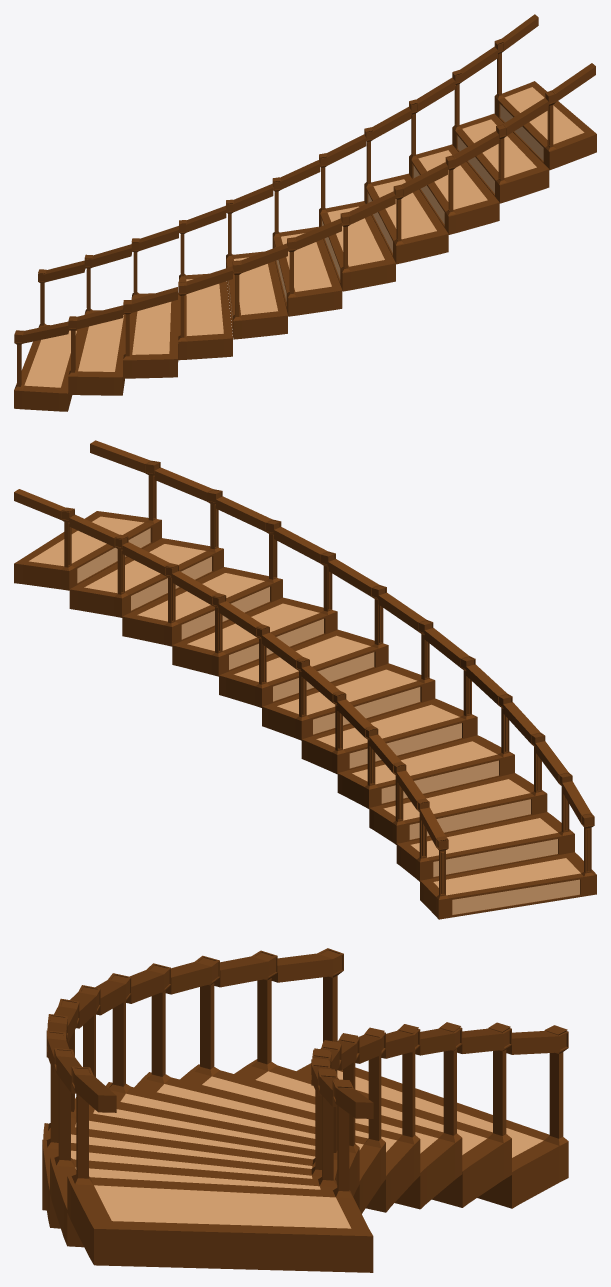
Rendered from Arch_StairsCurved_Right.fbx.
3 views of the same model, one above another, from view 1: azimuth 30°, elevation 25°; view 2: azimuth 150°, elevation 25°; view 3: azimuth 270°, elevation 25° (orthographic). The views are drawn at different scales.
Parts seen in each view (by area): view 1: StairsCurved.001; view 2: StairsCurved.001; view 3: StairsCurved.001.
Boxes of the visible parts, <box> form: StairsCurved.001: <box>14,14,596,411</box>; StairsCurved.001: <box>14,440,596,919</box>; StairsCurved.001: <box>42,948,568,1272</box>.
Size of the model in its own units: 973 by 445 by 416.
